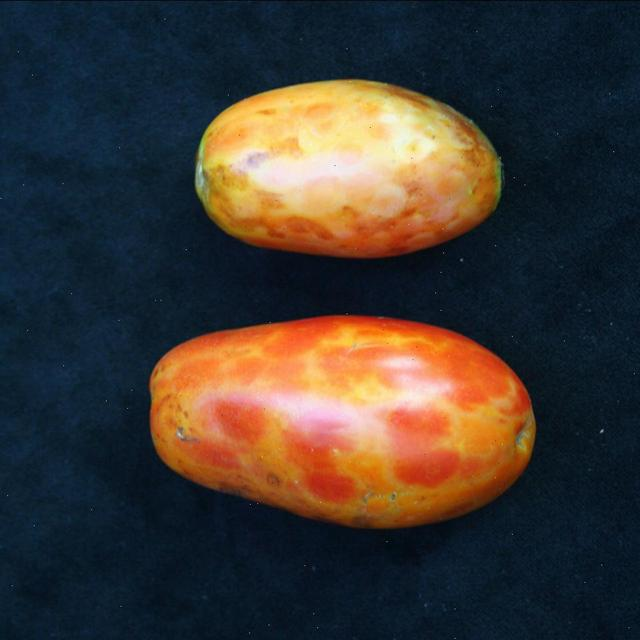Spotted wilt Virus Fruit: (106, 144, 149, 311)
